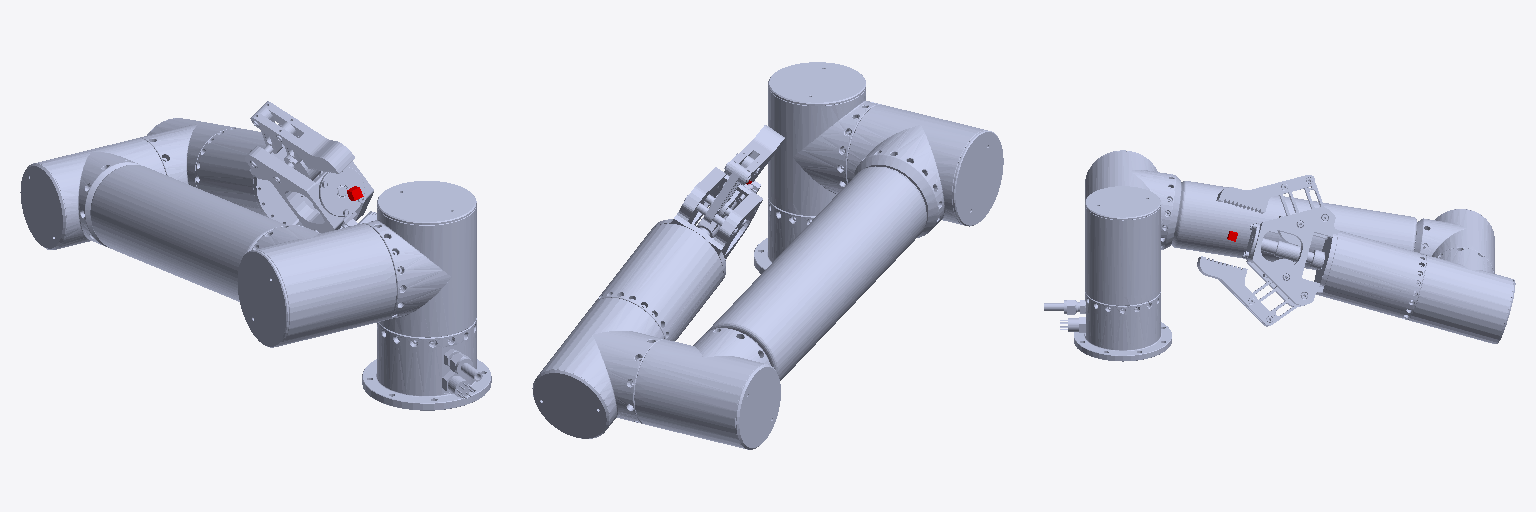
The robot description file, URDF, robot "prbt":
<?xml version="1.0" ?>
<!-- =================================================================================== -->
<!-- |    This document was autogenerated by xacro from src/arm_prbt/urdf/arm_prbt.xacro | -->
<!-- |    EDITING THIS FILE BY HAND IS NOT RECOMMENDED                                 | -->
<!-- =================================================================================== -->
<!--
Copyright (c) 2018 Pilz GmbH & Co. KG

Licensed under the Apache License, Version 2.0 (the "License");
you may not use this file except in compliance with the License.
You may obtain a copy of the License at

    http://www.apache.org/licenses/LICENSE-2.0

Unless required by applicable law or agreed to in writing, software
distributed under the License is distributed on an "AS IS" BASIS,
WITHOUT WARRANTIES OR CONDITIONS OF ANY KIND, either express or implied.
See the License for the specific language governing permissions and
limitations under the License.
-->
<robot
  name="prbt">
  <link
    name="base_link">
    <inertial>
      <origin
        xyz="7.8091E-10 0.027004 0.0031241"
        rpy="0 0 0" />
      <mass
        value="0.23715" />
      <inertia
        ixx="0.00033634"
        ixy="1.2404E-11"
        ixz="-5.1244E-12"
        iyy="0.00041443"
        iyz="5.8342E-07"
        izz="0.00033828" />
    </inertial>
    <visual>
      <origin
        xyz="0 0 0"
        rpy="0 0 0" />
      <geometry>
        <mesh
          filename="package://arm_5f5kg06/meshes/base_link.STL" />
      </geometry>
      <material
        name="">
        <color
          rgba="0.79216 0.81961 0.93333 1" />
      </material>
    </visual>
    <collision>
      <origin
        xyz="0 0 0"
        rpy="0 0 0" />
      <geometry>
        <mesh
          filename="package://arm_5f5kg06/meshes/base_link.STL" />
      </geometry>
    </collision>
  </link>
  <link
    name="Link1">
    <inertial>
      <origin
        xyz="-3.6862E-07 0.0064686 0.018857"
        rpy="0 0 0" />
      <mass
        value="0.14931" />
      <inertia
        ixx="0.00028928"
        ixy="2.3929E-09"
        ixz="-1.9827E-08"
        iyy="0.00032403"
        iyz="-9.7962E-06"
        izz="0.00028073" />
    </inertial>
    <visual>
      <origin
        xyz="0 0 0"
        rpy="0 0 0" />
      <geometry>
        <mesh
          filename="package://arm_5f5kg06/meshes/Link1.STL" />
      </geometry>
      <material
        name="">
        <color
          rgba="0.79216 0.81961 0.93333 1" />
      </material>
    </visual>
    <collision>
      <origin
        xyz="0 0 0"
        rpy="0 0 0" />
      <geometry>
        <mesh
          filename="package://arm_5f5kg06/meshes/Link1.STL" />
      </geometry>
    </collision>
  </link>
  <joint
    name="joint_1"
    type="revolute">
    <origin
      xyz="0 0 0.1295"
      rpy="1.5708 0 -1.5708" />
    <parent
      link="base_link" />
    <child
      link="Link1" />
    <axis
      xyz="0 1 0" />
    <limit
      lower="-6.28"
      upper="6.28"
      effort="100"
      velocity="1" />
  </joint>
  <link
    name="Link2">
    <inertial>
      <origin
        xyz="4.6278E-08 0.0028401 0.20642"
        rpy="0 0 0" />
      <mass
        value="0.60799" />
      <inertia
        ixx="0.0050514"
        ixy="-5.604E-10"
        ixz="5.5202E-10"
        iyy="0.0050983"
        iyz="-2.9418E-06"
        izz="0.00094502" />
    </inertial>
    <visual>
      <origin
        xyz="0 0 0"
        rpy="0 0 0" />
      <geometry>
        <mesh
          filename="package://arm_5f5kg06/meshes/Link2.STL" />
      </geometry>
      <material
        name="">
        <color
          rgba="0.79216 0.81961 0.93333 1" />
      </material>
    </visual>
    <collision>
      <origin
        xyz="0 0 0"
        rpy="0 0 0" />
      <geometry>
        <mesh
          filename="package://arm_5f5kg06/meshes/Link2.STL" />
      </geometry>
    </collision>
  </link>
  <joint
    name="joint_2"
    type="revolute">
    <origin
      xyz="0 0 0.1195"
      rpy="1.5708 0 -1.3969" />
    <parent
      link="Link1" />
    <child
      link="Link2" />
    <axis
      xyz="0 1 0" />
    <limit
      lower="-6.28"
      upper="6.28"
      effort="100"
      velocity="1" />
  </joint>
  <link
    name="Link3">
    <inertial>
      <origin
        xyz="-1.2282E-07 0.0052796 0.022721"
        rpy="0 0 0" />
      <mass
        value="0.14412" />
      <inertia
        ixx="0.00024787"
        ixy="1.8741E-09"
        ixz="5.8407E-09"
        iyy="0.00025982"
        iyz="-8.5886E-06"
        izz="0.00022194" />
    </inertial>
    <visual>
      <origin
        xyz="0 0 0"
        rpy="0 0 0" />
      <geometry>
        <mesh
          filename="package://arm_5f5kg06/meshes/Link3.STL" />
      </geometry>
      <material
        name="">
        <color
          rgba="0.79216 0.81961 0.93333 1" />
      </material>
    </visual>
    <collision>
      <origin
        xyz="0 0 0"
        rpy="0 0 0" />
      <geometry>
        <mesh
          filename="package://arm_5f5kg06/meshes/Link3.STL" />
      </geometry>
    </collision>
  </link>
  <joint
    name="joint_3"
    type="revolute">
    <origin
      xyz="0 -0.1195 0.424"
      rpy="-1.5708 3.2656 0" />
    <parent
      link="Link2" />
    <child
      link="Link3" />
    <axis
      xyz="0 0 -1" />
    <limit
      lower="-6.28"
      upper="6.28"
      effort="100"
      velocity="1" />
  </joint>
  <link
    name="Link4">
    <inertial>
      <origin
        xyz="-7.8099E-08 0.11689 1.0878E-06"
        rpy="0 0 0" />
      <mass
        value="0.30012" />
      <inertia
        ixx="0.00061274"
        ixy="1.3629E-10"
        ixz="-2.6458E-05"
        iyy="0.0004594"
        iyz="2.0039E-09"
        izz="0.00052637" />
    </inertial>
    <visual>
      <origin
        xyz="0 0 0"
        rpy="0 0 0" />
      <geometry>
        <mesh
          filename="package://arm_5f5kg06/meshes/Link4.STL" />
      </geometry>
      <material
        name="">
        <color
          rgba="0.79216 0.81961 0.93333 1" />
      </material>
    </visual>
    <collision>
      <origin
        xyz="0 0 0"
        rpy="0 0 0" />
      <geometry>
        <mesh
          filename="package://arm_5f5kg06/meshes/Link4.STL" />
      </geometry>
    </collision>
  </link>
  <joint
    name="joint_4"
    type="revolute">
    <origin
      xyz="0 -0.05 0"
      rpy="0 1.808 -3.1416" />
    <parent
      link="Link3" />
    <child
      link="Link4" />
    <axis
      xyz="0 1 0" />
    <limit
      lower="-6.28"
      upper="6.28"
      effort="100"
      velocity="1" />
  </joint>

  <!-- === Added: TCP link and fixed joint to Link4 (ASCII-only comments) === -->
  <link name="tcp">
    <!-- Visual marker: small red box at TCP, 10 mm edge length -->
    <visual>
      <origin xyz="0 0 0" rpy="0 0 0"/>
      <geometry>
        <box size="0.01 0.01 0.01"/>
      </geometry>
      <material name="tcp_color">
        <color rgba="1 0 0 1"/>
      </material>
    </visual>
    <!-- Optional collision box (same size); comment out if not needed -->
    <!-- <collision>
      <origin xyz="0 0 0" rpy="0 0 0"/>
      <geometry>
        <box size="0.01 0.01 0.01"/>
      </geometry>
    </collision> -->
  </link>
  <joint name="link4_to_tcp" type="fixed">
    <parent link="Link4" />
    <child link="tcp" />
    <!-- Example: offset along Link4 +Y by 0.25 m -->
    <origin xyz="0 0.245 0" rpy="0 0 0" />
  </joint>
</robot>

--- Render facts (derived) ---
3 views of the same robot in one strip: view 1: azimuth 30°, elevation 25°; view 2: azimuth 150°, elevation 25°; view 3: azimuth 270°, elevation 25° (orthographic).
Robot: prbt — 6 links, 5 joints (4 revolute, 1 fixed); root link base_link; default pose: every joint at zero.
Visible links, largest first — view 1: Link2, Link4, Link1, base_link, Link3; view 2: Link2, Link4, Link1, Link3, base_link; view 3: Link4, Link2, Link1, Link3, base_link.
Boxes of the visible links, x1,y1,x2,y2 form: Link2: (20, 138, 396, 347); Link4: (195, 101, 376, 232); Link1: (362, 181, 476, 337); base_link: (362, 318, 491, 410); Link3: (140, 118, 235, 187); Link2: (634, 105, 1003, 449); Link4: (595, 125, 785, 340); Link1: (768, 62, 881, 215); Link3: (532, 298, 663, 438); base_link: (754, 198, 815, 273); Link4: (1197, 175, 1426, 326); Link2: (1085, 150, 1494, 273); Link1: (1085, 186, 1160, 305); Link3: (1408, 248, 1515, 343); base_link: (1044, 292, 1171, 361).
Size in the robot's own frame: 0.2405 by 0.5822 by 0.2095 metres.
5 mesh visuals loaded from 5 distinct referenced files (5 binary STL).
